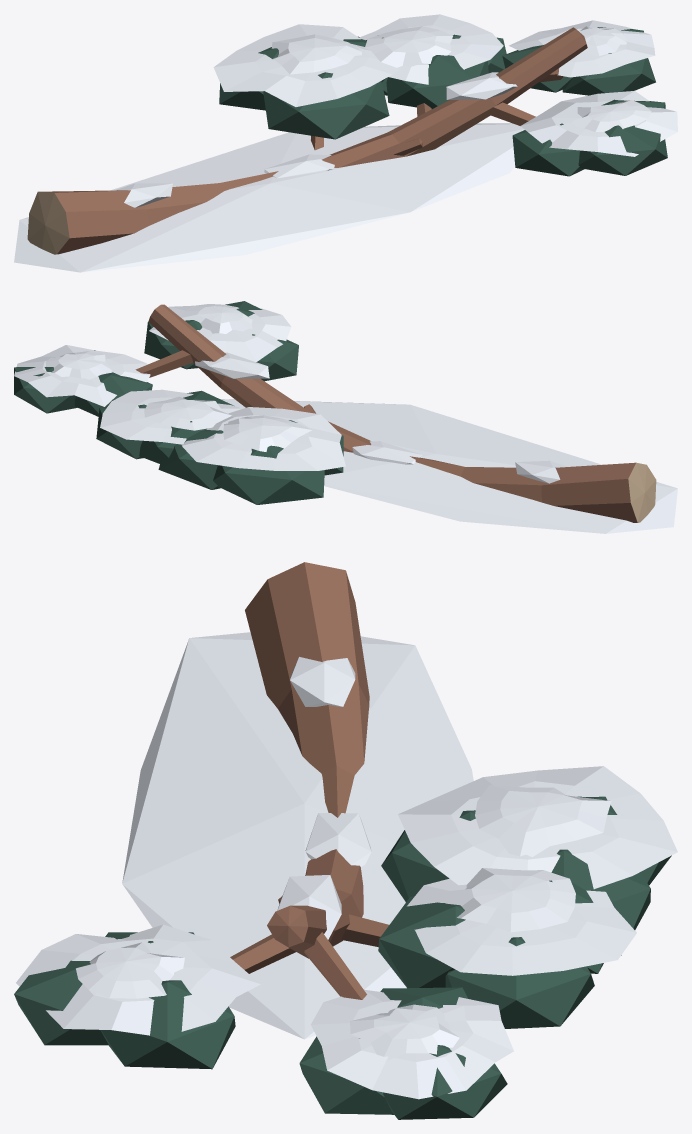
File: TREE_PINE_FALLEN.glb
3 views of the same model, one above another, from view 1: azimuth 30°, elevation 25°; view 2: azimuth 150°, elevation 25°; view 3: azimuth 270°, elevation 25° (orthographic). The views are drawn at different scales.
Parts seen in each view (by area): view 1: TREE_PINE_FALLEN; view 2: TREE_PINE_FALLEN; view 3: TREE_PINE_FALLEN.
Boxes of the visible parts, x1=… form: TREE_PINE_FALLEN: x1=14, y1=14, x2=677, y2=272; TREE_PINE_FALLEN: x1=14, y1=301, x2=677, y2=533; TREE_PINE_FALLEN: x1=14, y1=562, x2=677, y2=1119.
Bounding box in the file's own units: 5.44 × 1.01 × 2.86.
